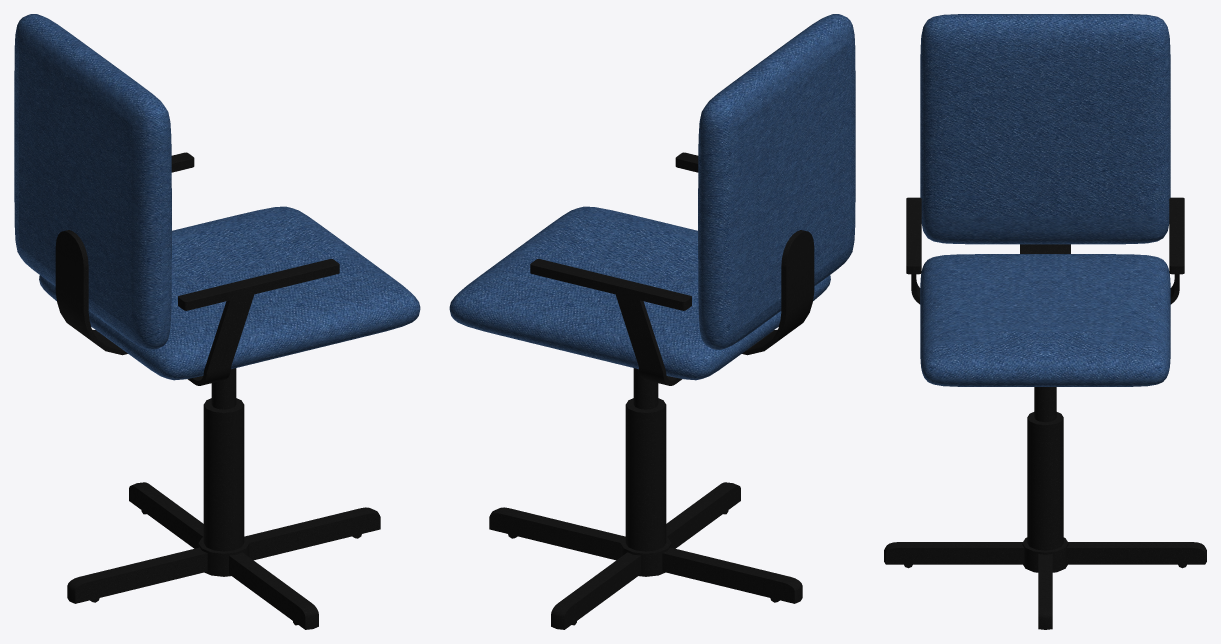
The model's file is office_chair.glb.
The picture shows the model from 3 angles, left to right: view 1: azimuth 30°, elevation 25°; view 2: azimuth 150°, elevation 25°; view 3: azimuth 270°, elevation 25°; orthographic projection. The views are drawn at different scales.
Parts seen in each view (by area): view 1: office_chair; view 2: office_chair; view 3: office_chair.
Boxes of the visible parts, x1=… form: office_chair: x1=14, y1=14, x2=420, y2=629; office_chair: x1=449, y1=14, x2=855, y2=629; office_chair: x1=884, y1=14, x2=1206, y2=629.
Size of the model in its own units: 0.7 by 1.18 by 0.7.
Materials: 2 (2 with a texture image).
